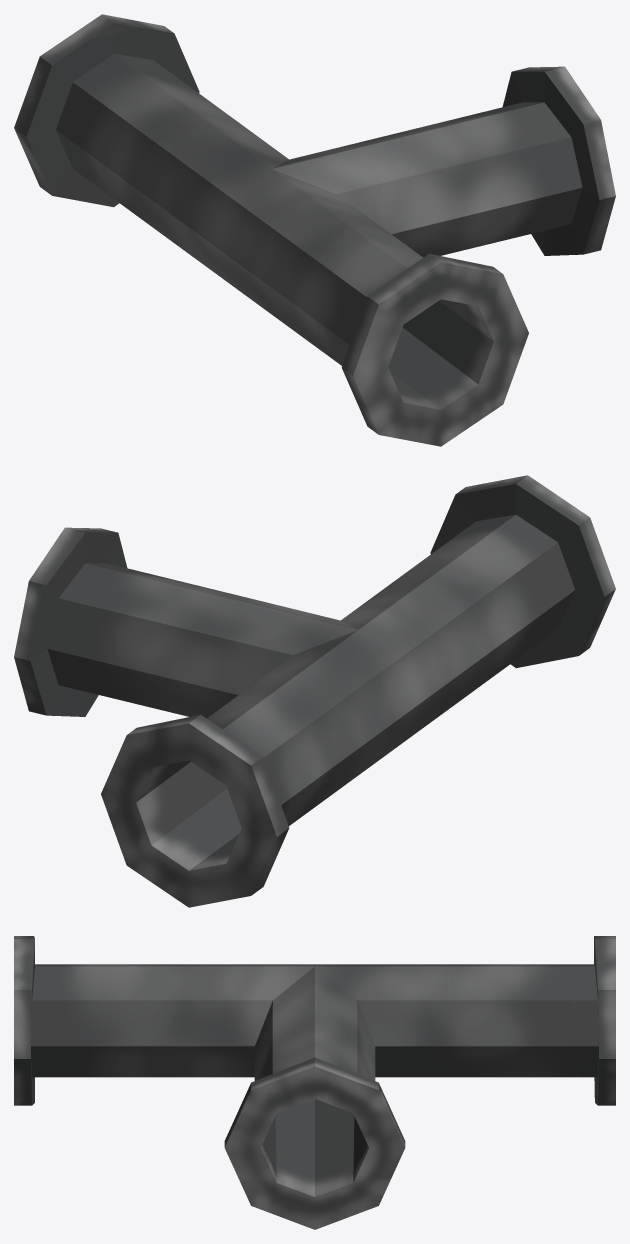
3 renders of one model, top to bottom at view 1: azimuth 30°, elevation 25°; view 2: azimuth 150°, elevation 25°; view 3: azimuth 270°, elevation 25°, orthographic. The views are drawn at different scales.
Parts seen in each view (by area): view 1: Pipe3-2; view 2: Pipe3-2; view 3: Pipe3-2.
Part boxes in pixels (box(x1,y1,x2,y2)): Pipe3-2: box(14, 14, 615, 446); Pipe3-2: box(14, 475, 615, 907); Pipe3-2: box(14, 936, 615, 1229).
Size of the model in its own units: 6.5 by 3 by 10.
Materials: 1 (1 with a texture image).
